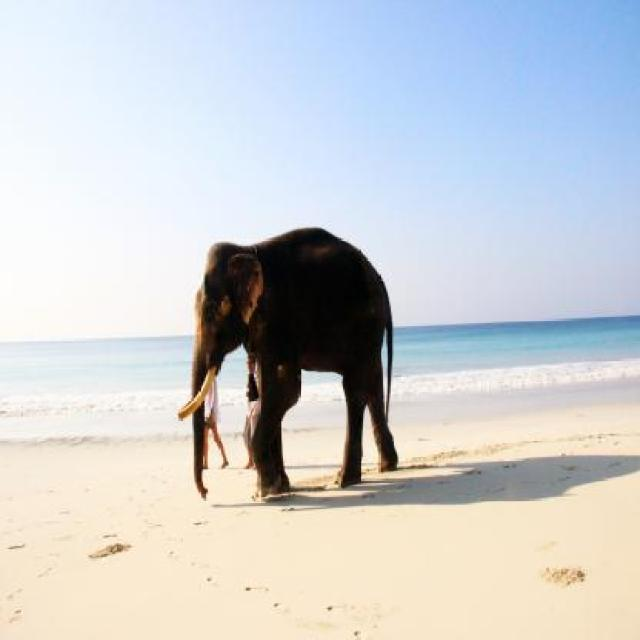Elephant: (177, 222, 409, 502)
